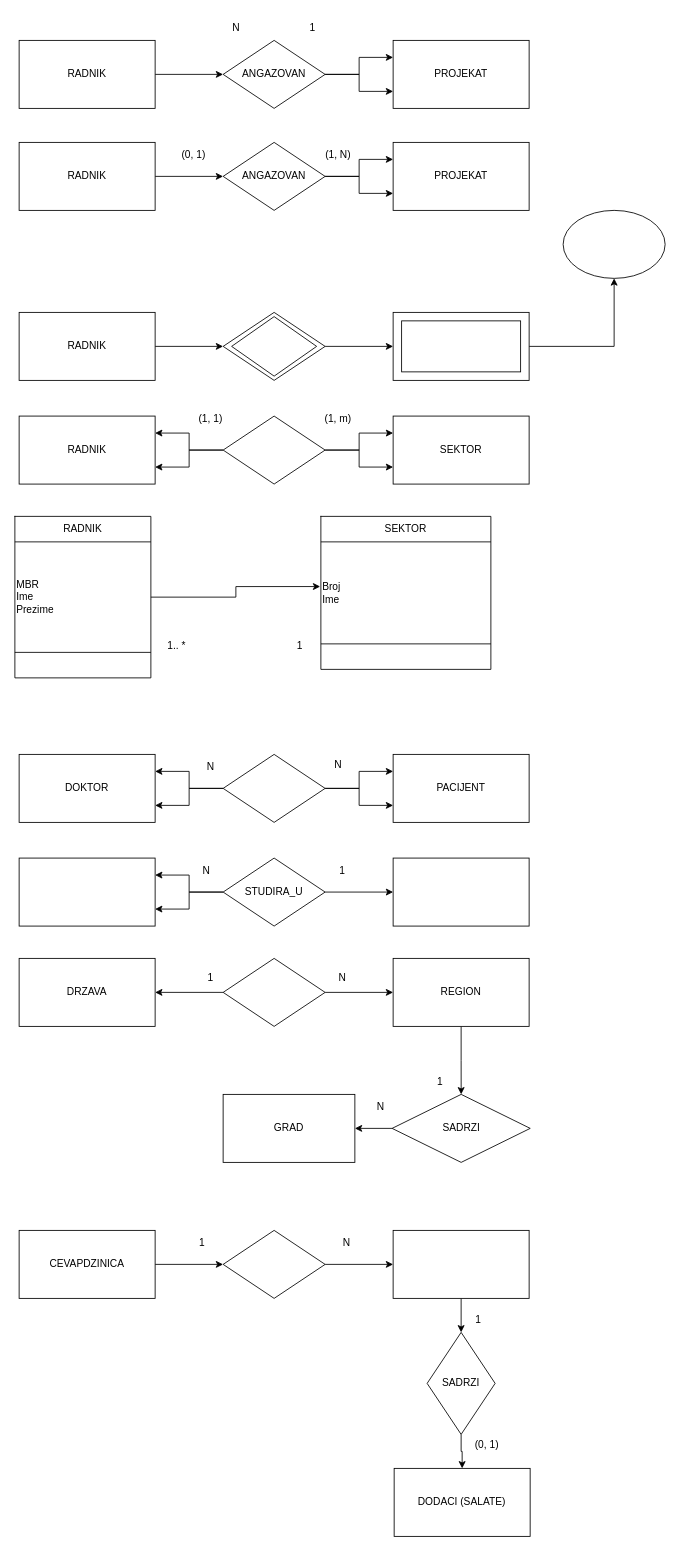
Image size: 680x1551. Some labels were removed from this diagram. Here are the shapes that lost their labels. From the top down, the centre of each, then its label:
At [613,244]: "Ime".
At [274,346]: "ZAVISI_OD".
At [461,346]: "CLAN_PORODICE".
At [273,449]: "RADI_U".
At [273,788]: "RADI_NA".
At [86,891]: "STUDENT".
At [460,891]: "FAKULTET".
At [273,992]: "IMA".
At [273,1264]: "PRODAJE".
At [460,1264]: "PLJESKAVICA".
